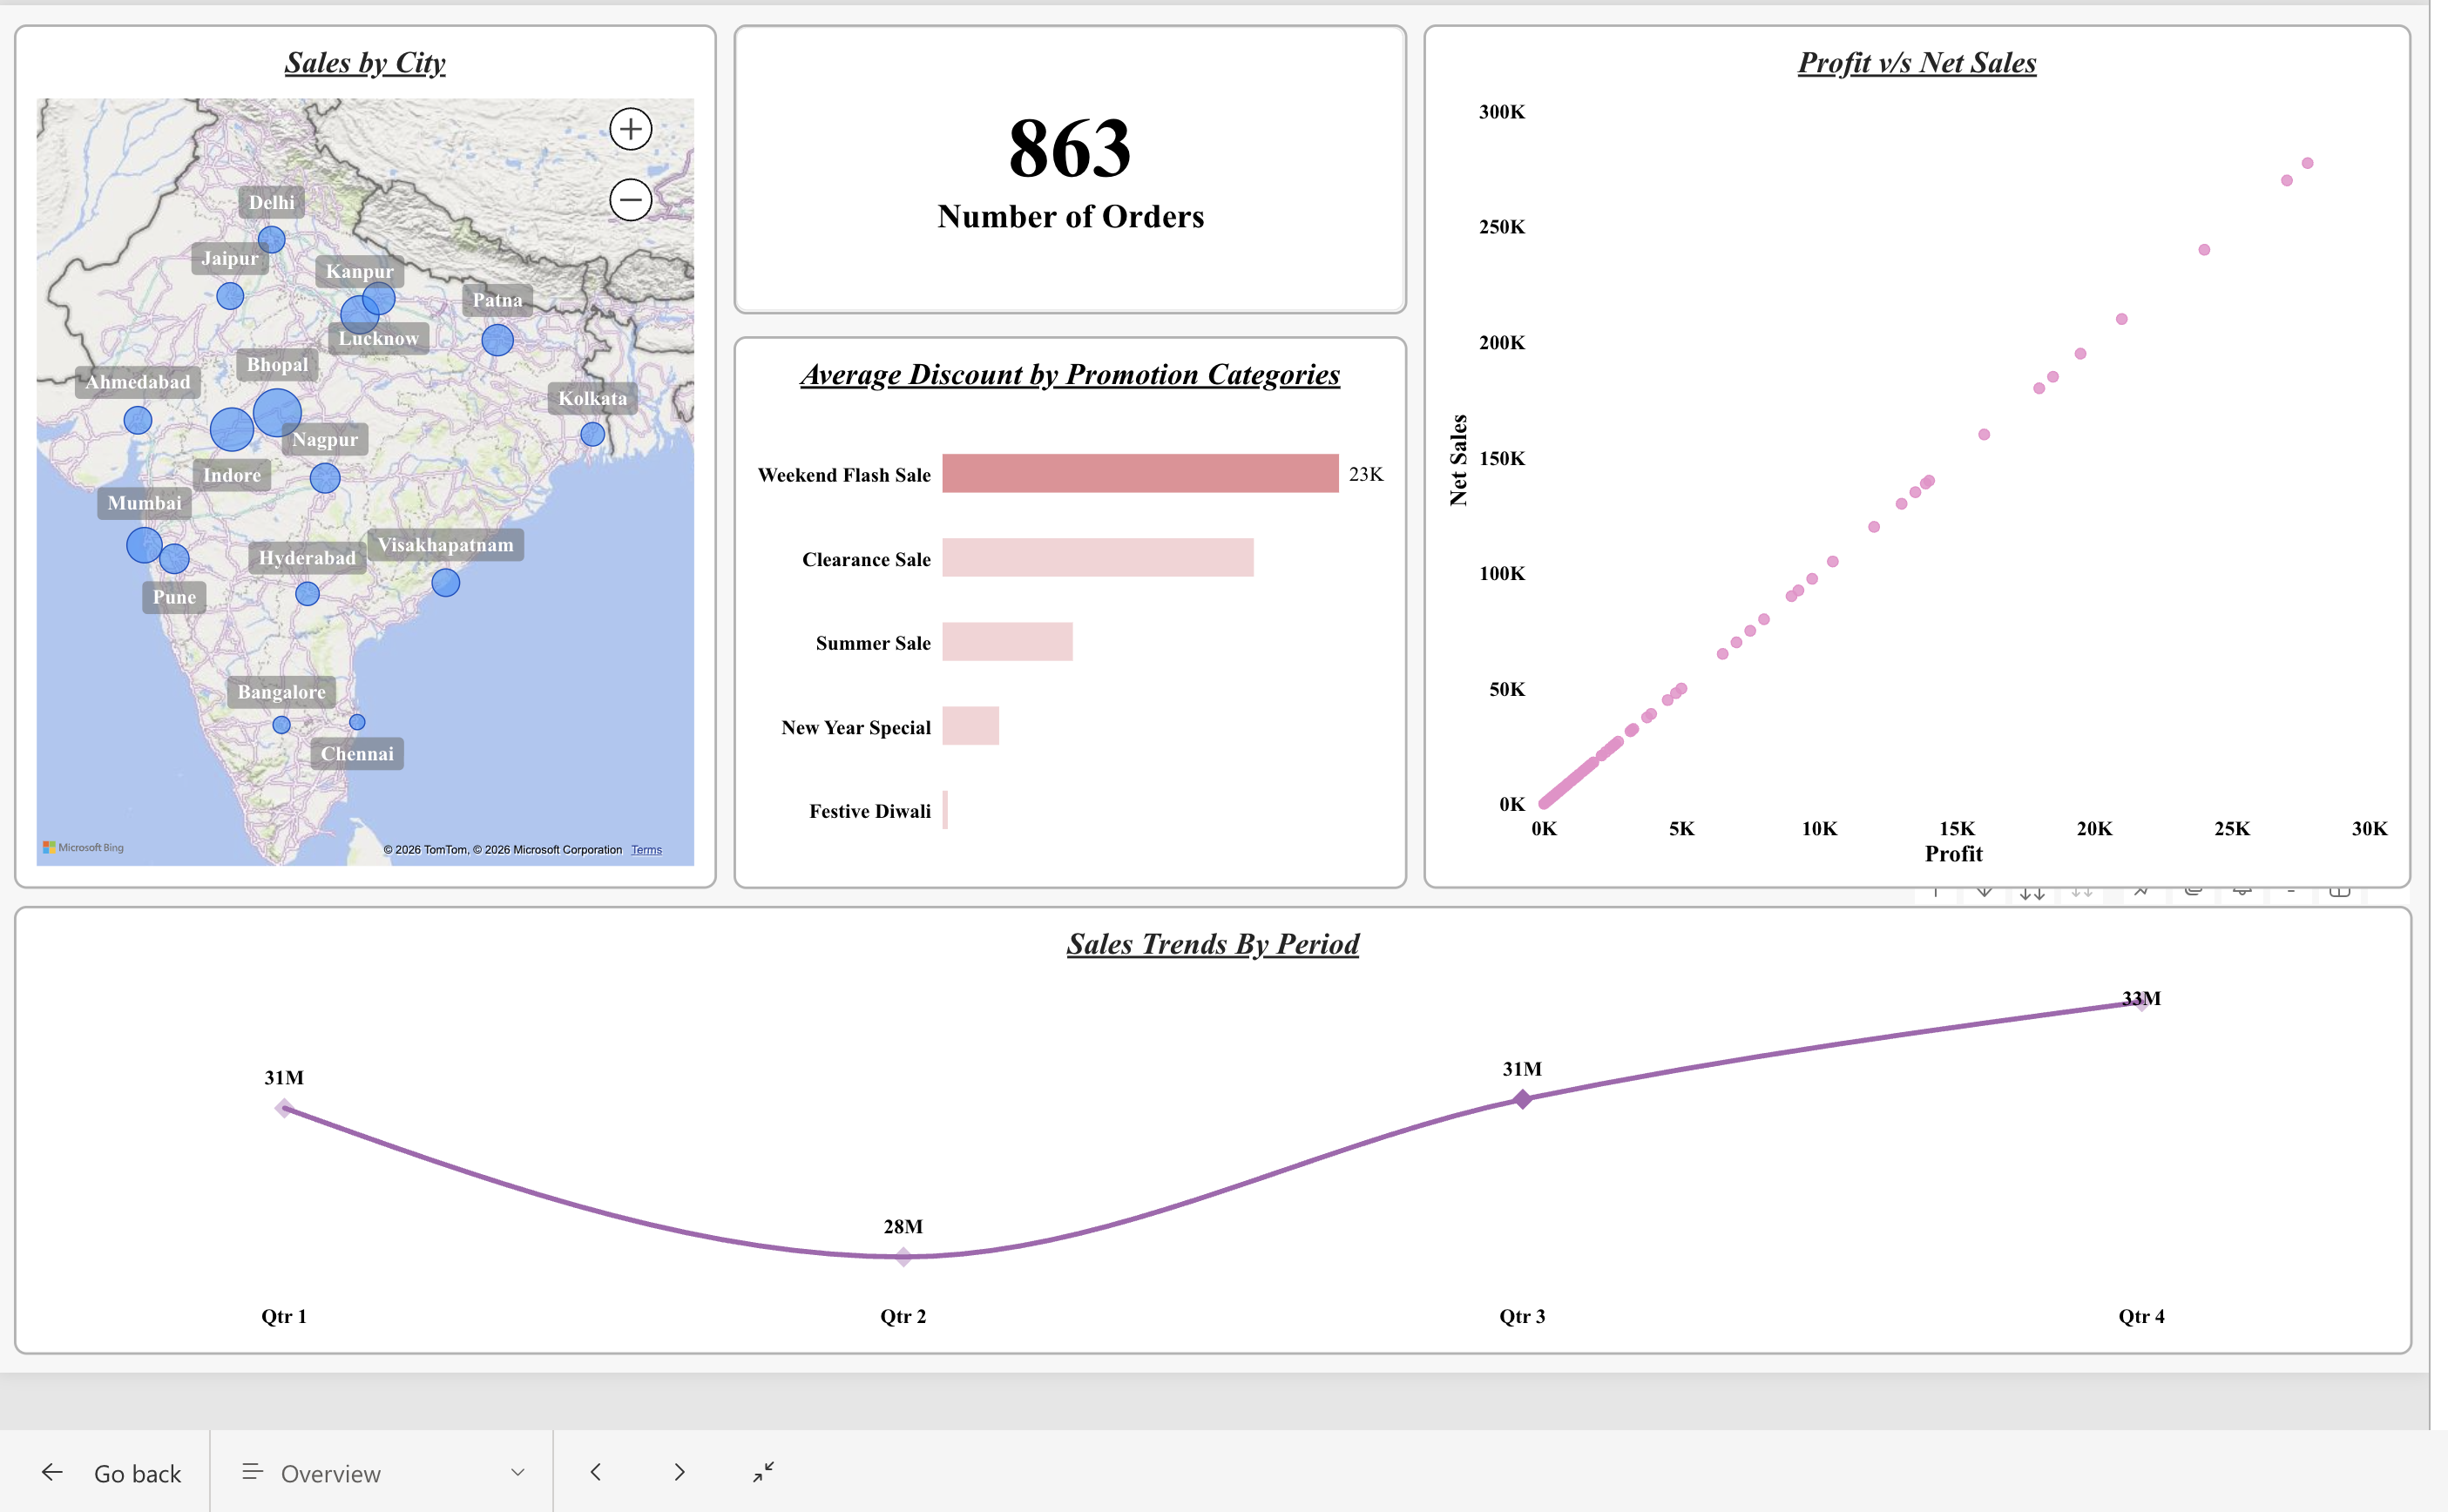

What the dashboard file says about the page in this screenshot:
{"tool":"powerbi","page":{"name":"Overview","canvas":[1920,1080],"ordinal":1},"visuals":[{"type":"lineChart","title":"Sales Trends By Period","fields":{"Category":["DateTable.Date.Variation.Date Hierarchy.Year","DateTable.Date.Variation.Date Hierarchy.Quarter","DateTable.Date.Variation.Date Hierarchy.Month","DateTable.Date.Variation.Date Hierarchy.Day"],"Y":["Sum(Fact Table.Net Sales)"]},"box":[13.3,711.2,1893.3,354.6],"z":0},{"type":"scatterChart","title":"Profit v/s Net Sales","fields":{"X":["Fact Table.Profit"],"Y":["Fact Table.Net Sales"]},"box":[1126.8,15.3,779.8,682.6],"z":1000},{"type":"barChart","title":"Average Discount by Promotion Categories","fields":{"Category":["Dim Promotion.Promotion Name"],"Y":["Avg(Fact Table.Discount Value)"]},"box":[581.5,261.2,532,436.6],"z":2000},{"type":"map","title":"Sales by City","fields":{"Category":["Dim Customers.City"],"Size":["Sum(Fact Table.Net Sales)"]},"box":[13.3,15.3,554.8,682.6],"z":3000},{"type":"cardVisual","fields":{"Data":["Count(Fact Table.Order ID)"]},"box":[581.5,15.3,532,228.8],"z":4000}]}

Visuals, with their boxes on the page's 1920x1080 design canvas (x1, y1, x2, y2). These are canvas units, not pixel positions in the 2448x1512 screenshot, which may show the page scaled, cropped or inside an application window:
"Sales Trends By Period" lineChart: 13,711,1907,1066
"Profit v/s Net Sales" scatterChart: 1127,15,1907,698
"Average Discount by Promotion Categories" barChart: 582,261,1114,698
"Sales by City" map: 13,15,568,698
cardVisual - Count(Fact Table.Order ID): 582,15,1114,244
